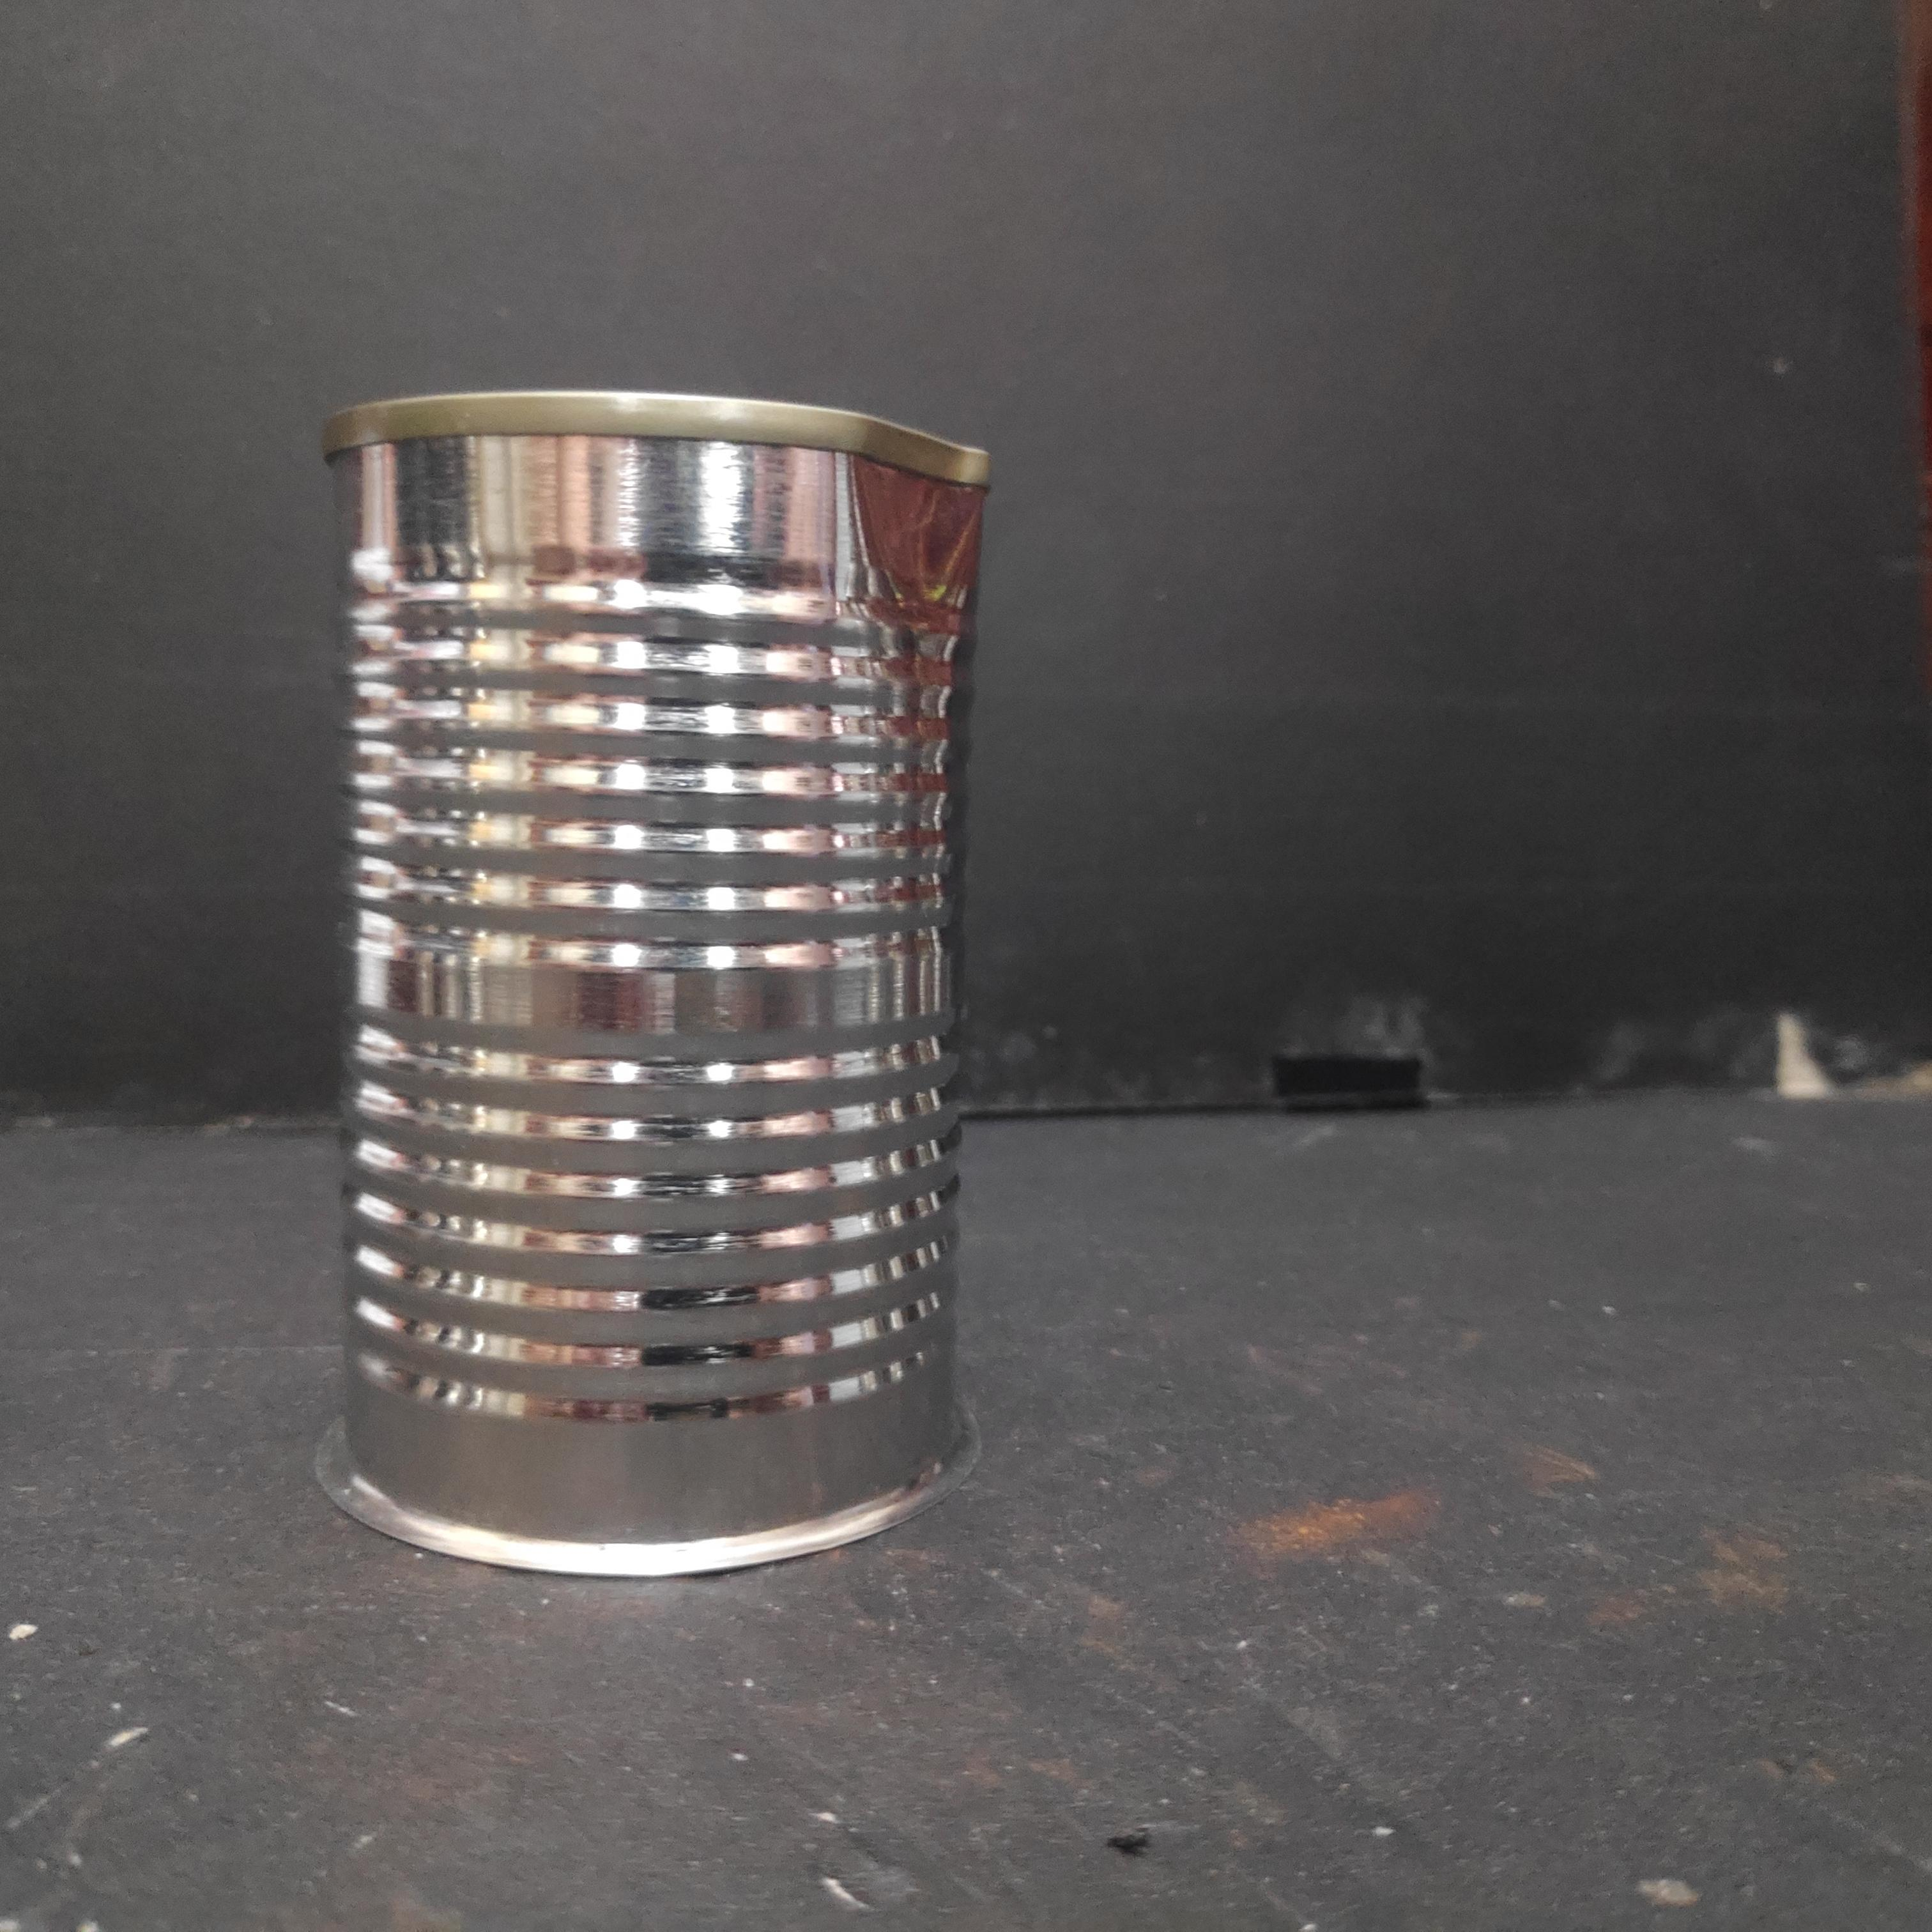Minor Defect: (302, 384, 1011, 1575)
